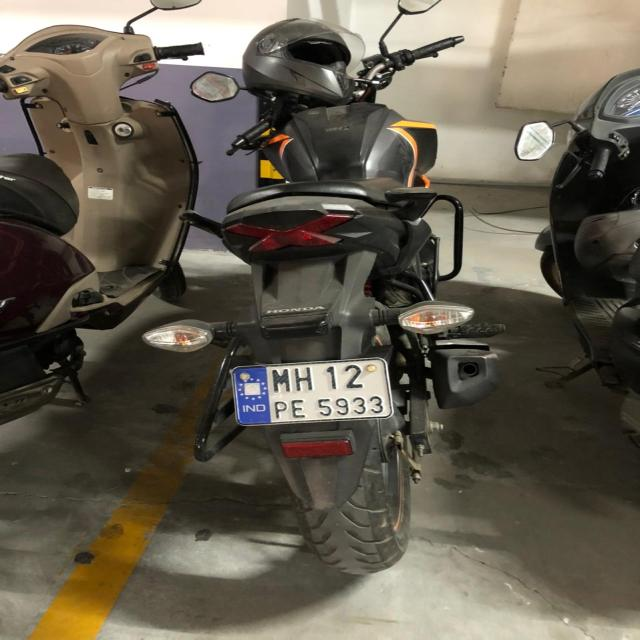number plate: (229, 356, 394, 426)
